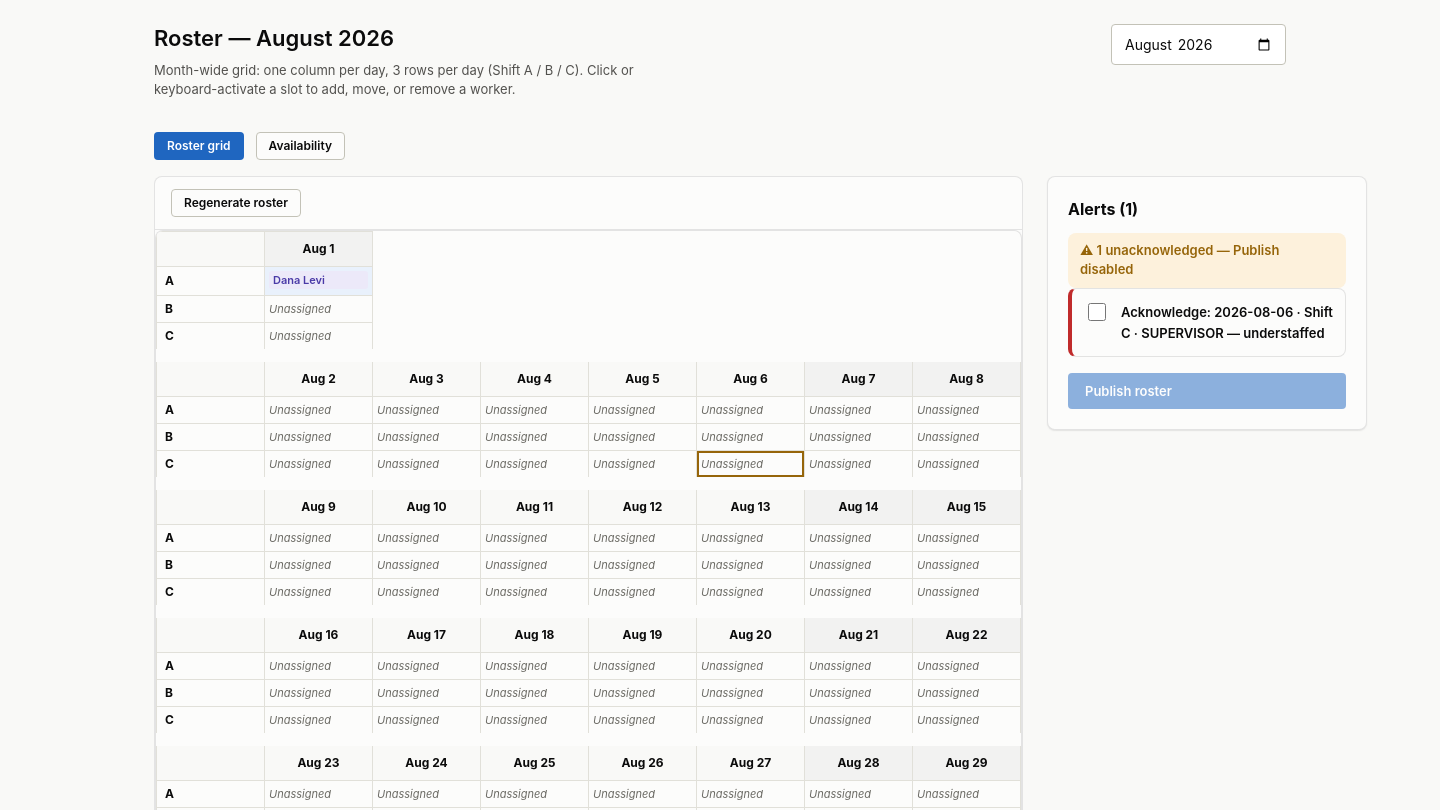
RosterPage › disables Publish until every alert is acknowledged, then enables it
This screenshot has width=1440, height=810.
Expected: the button "Publish roster" is disabled, [1068,373,1346,409]
Step 1. Click the checkbox labelled "Acknowledge" → (1097, 312), box [1088,303,1106,321]
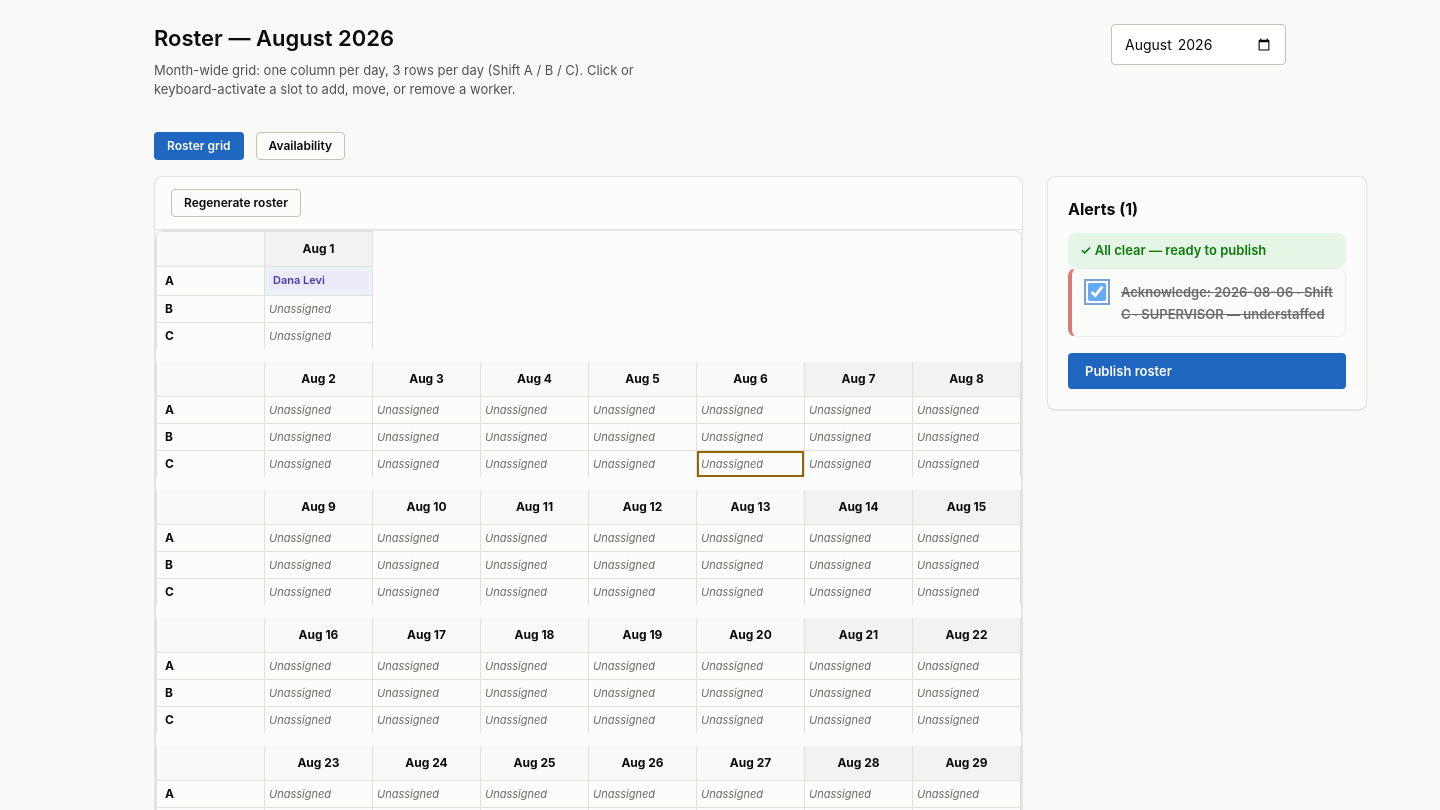
Result: the button "Publish roster" is enabled at [1068,353,1346,389]
Result: the text "✓ All clear — ready to publish" is shown at [1068,233,1346,268]
